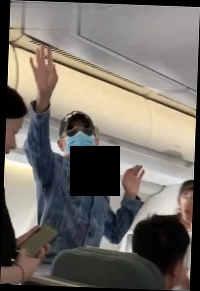with_mask: (62, 121, 96, 160)
without_mask: (5, 120, 23, 163)
